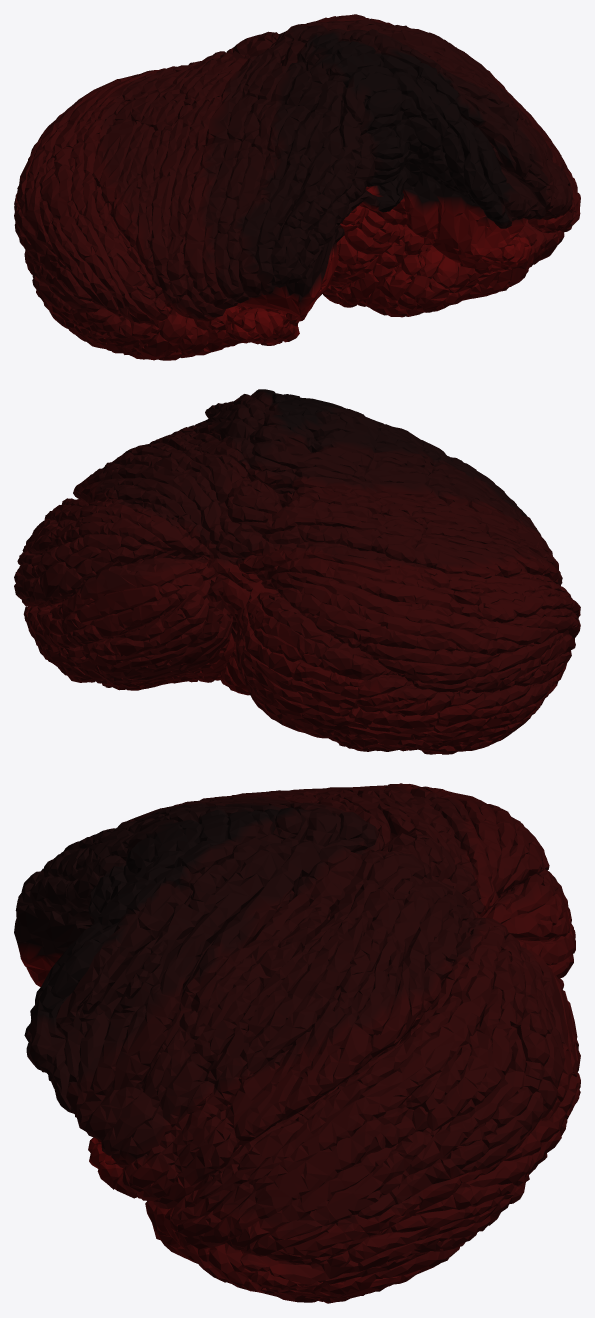
File: cerebelo_sereno_leve.glb
3 views of the same model, one above another, from view 1: azimuth 30°, elevation 25°; view 2: azimuth 150°, elevation 25°; view 3: azimuth 270°, elevation 25° (orthographic). The views are drawn at different scales.
Parts seen in each view (by area): view 1: cerebelo_sereno; view 2: cerebelo_sereno; view 3: cerebelo_sereno.
Boxes of the visible parts, x1=… form: cerebelo_sereno: x1=14, y1=14, x2=580, y2=360; cerebelo_sereno: x1=14, y1=389, x2=580, y2=754; cerebelo_sereno: x1=14, y1=783, x2=580, y2=1303.
Size of the model in its own units: 11.4 by 5.98 by 7.94.
